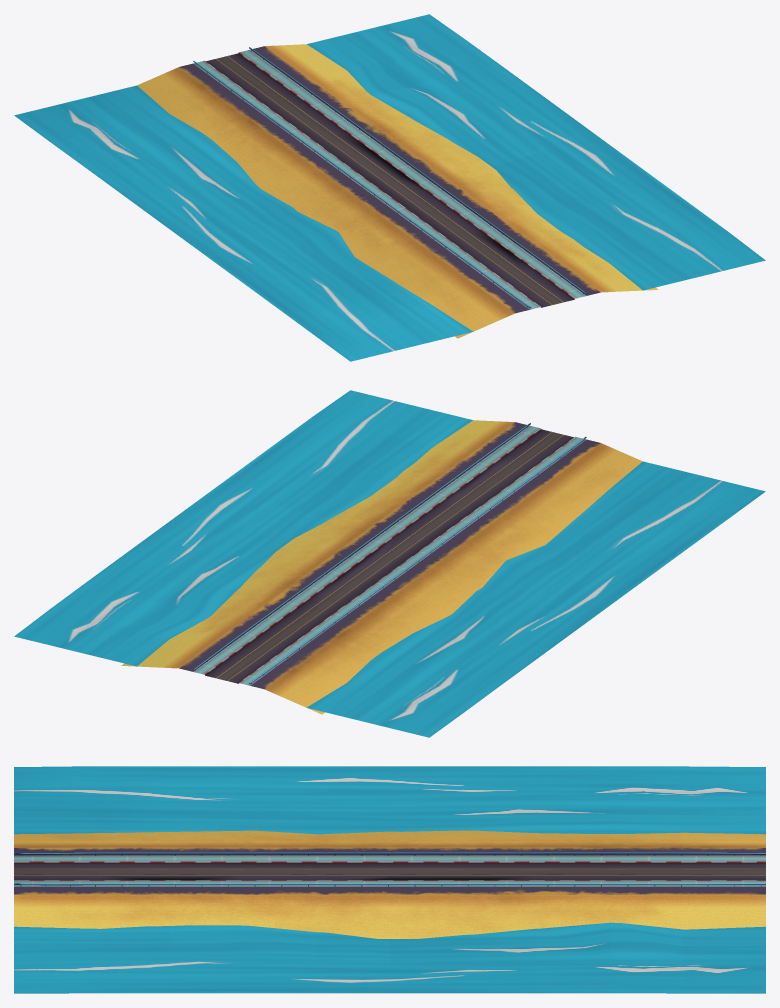
The model's file is beachRoad_fix.fbx.
3 views of the same model, one above another, from view 1: azimuth 30°, elevation 25°; view 2: azimuth 150°, elevation 25°; view 3: azimuth 270°, elevation 25° (orthographic). The views are drawn at different scales.
Parts seen in each view (by area): view 1: beachSea_right_low, beachSea_left_low, beachRoad_low, beachRoad_ralling_low; view 2: beachSea_right_low, beachSea_left_low, beachRoad_low, beachRoad_ralling_low; view 3: beachSea_left_low, beachSea_right_low, beachRoad_low, beachRoad_ralling_low.
Part boxes in pixels (x1,y1,x2,y2): beachSea_right_low: [14, 63, 529, 361]; beachSea_left_low: [250, 14, 765, 295]; beachRoad_low: [193, 49, 585, 309]; beachRoad_ralling_low: [193, 47, 586, 307]; beachSea_right_low: [250, 439, 765, 737]; beachSea_left_low: [14, 390, 529, 671]; beachRoad_low: [194, 425, 586, 685]; beachRoad_ralling_low: [193, 423, 586, 684]; beachSea_left_low: [14, 886, 765, 993]; beachSea_right_low: [14, 766, 765, 855]; beachRoad_low: [14, 856, 765, 886]; beachRoad_ralling_low: [14, 852, 765, 886].
Bounding box in the file's own units: 7832 × 273 × 10959.
